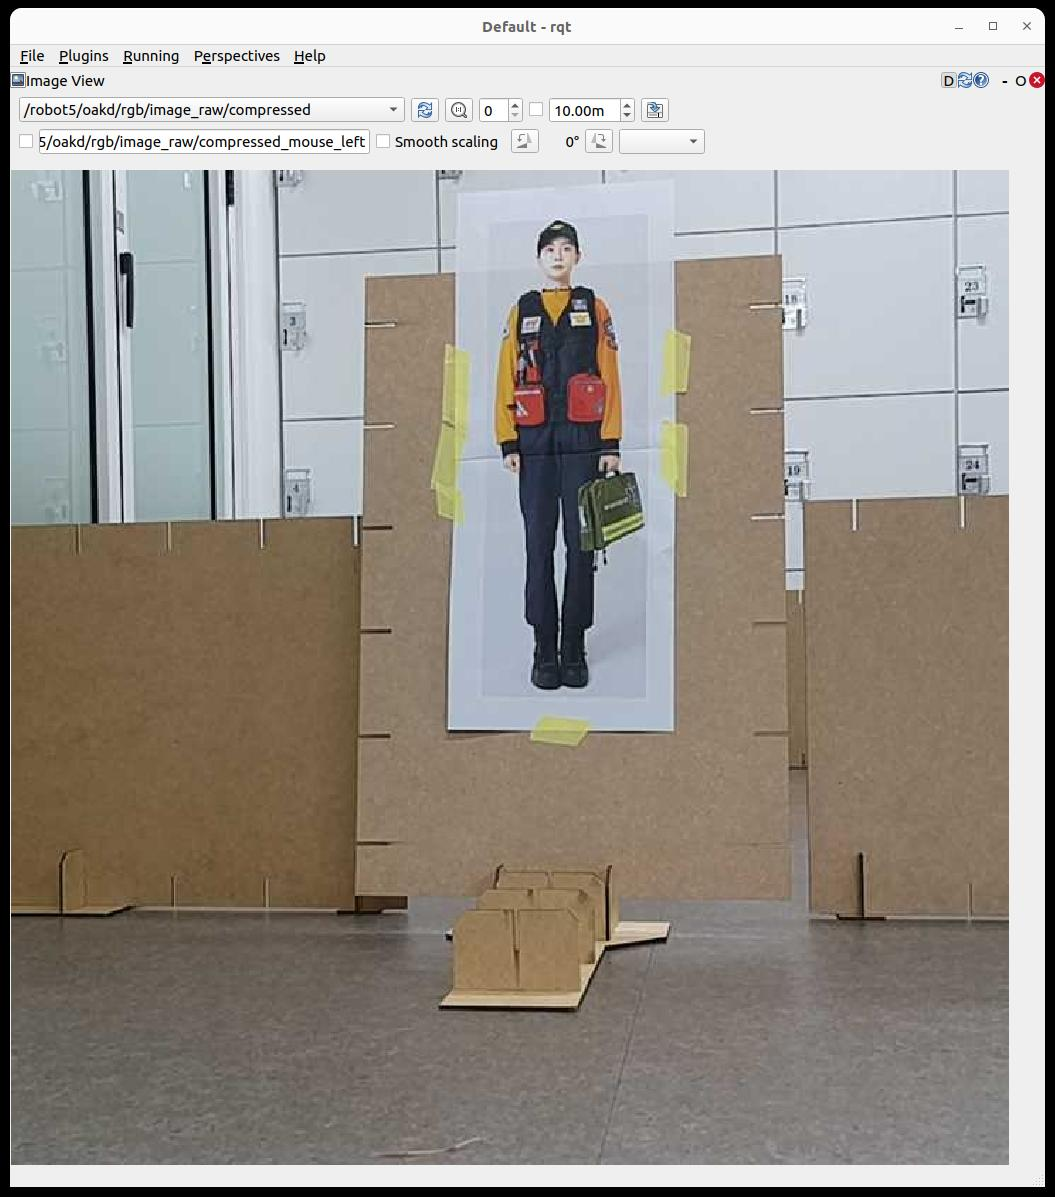Responder: (496, 221, 621, 689)
